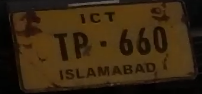TP660: (3, 2, 199, 91)
